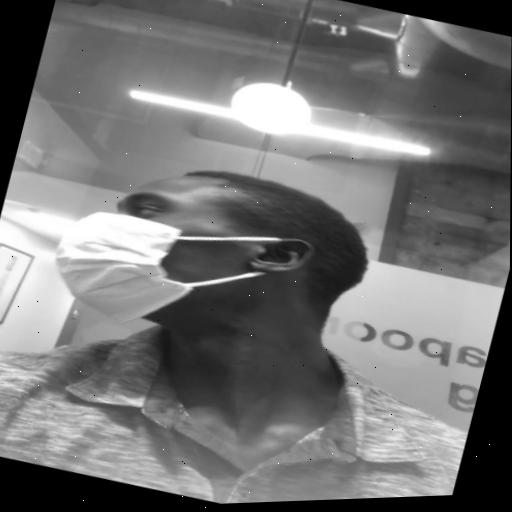mask: (44, 143, 325, 364)
